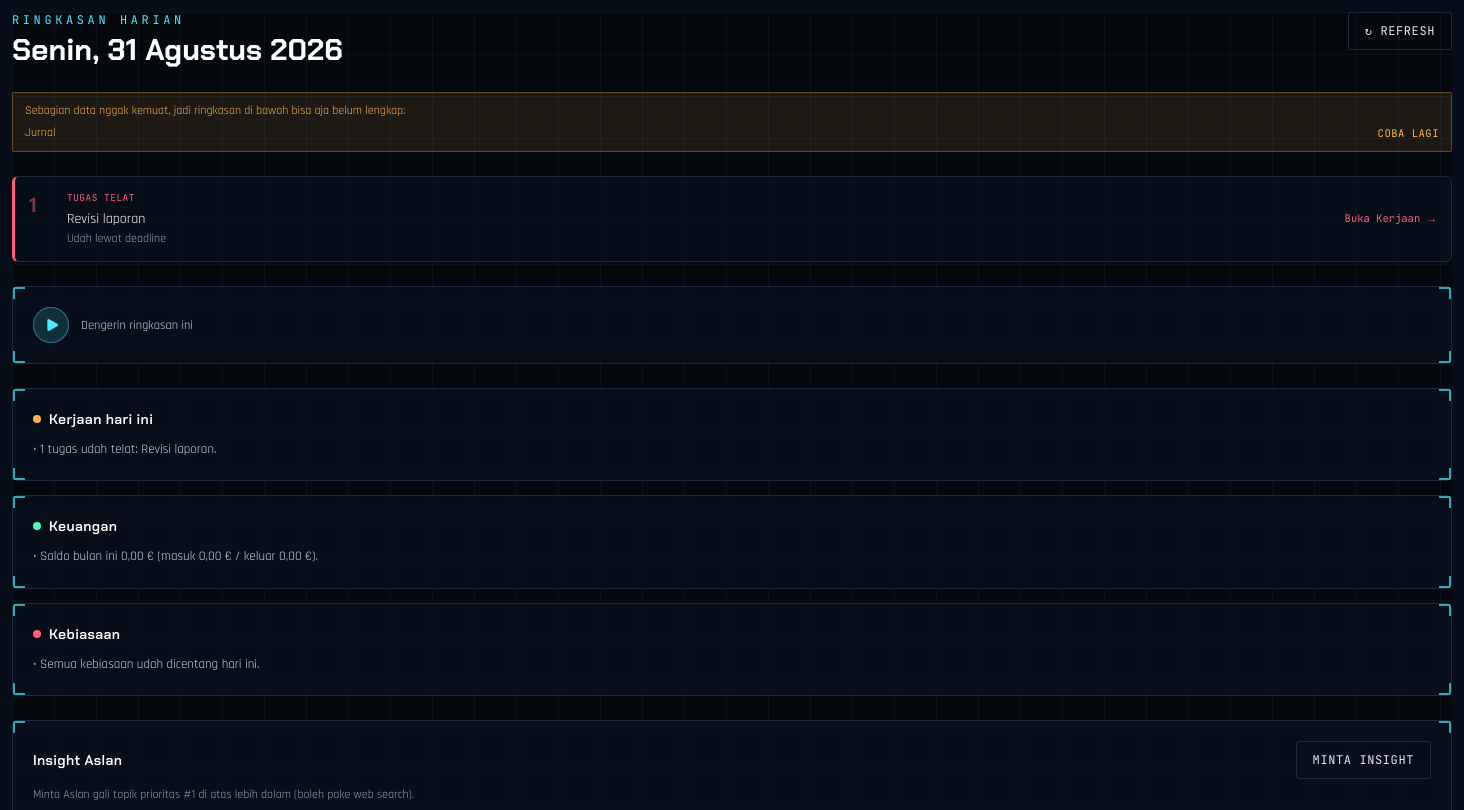
Test case: RingkasanPage › still shows the briefing when one data source fails, and can retry just that part
Expected: the text "Revisi laporan" is shown, [67,210,145,228]
Expected: the text "Sebagian data nggak kemuat" is shown, [25,103,405,118]
Click the button with aria-label "Coba lagi muat Jurnal": (1408, 133) [1378,125,1439,141]
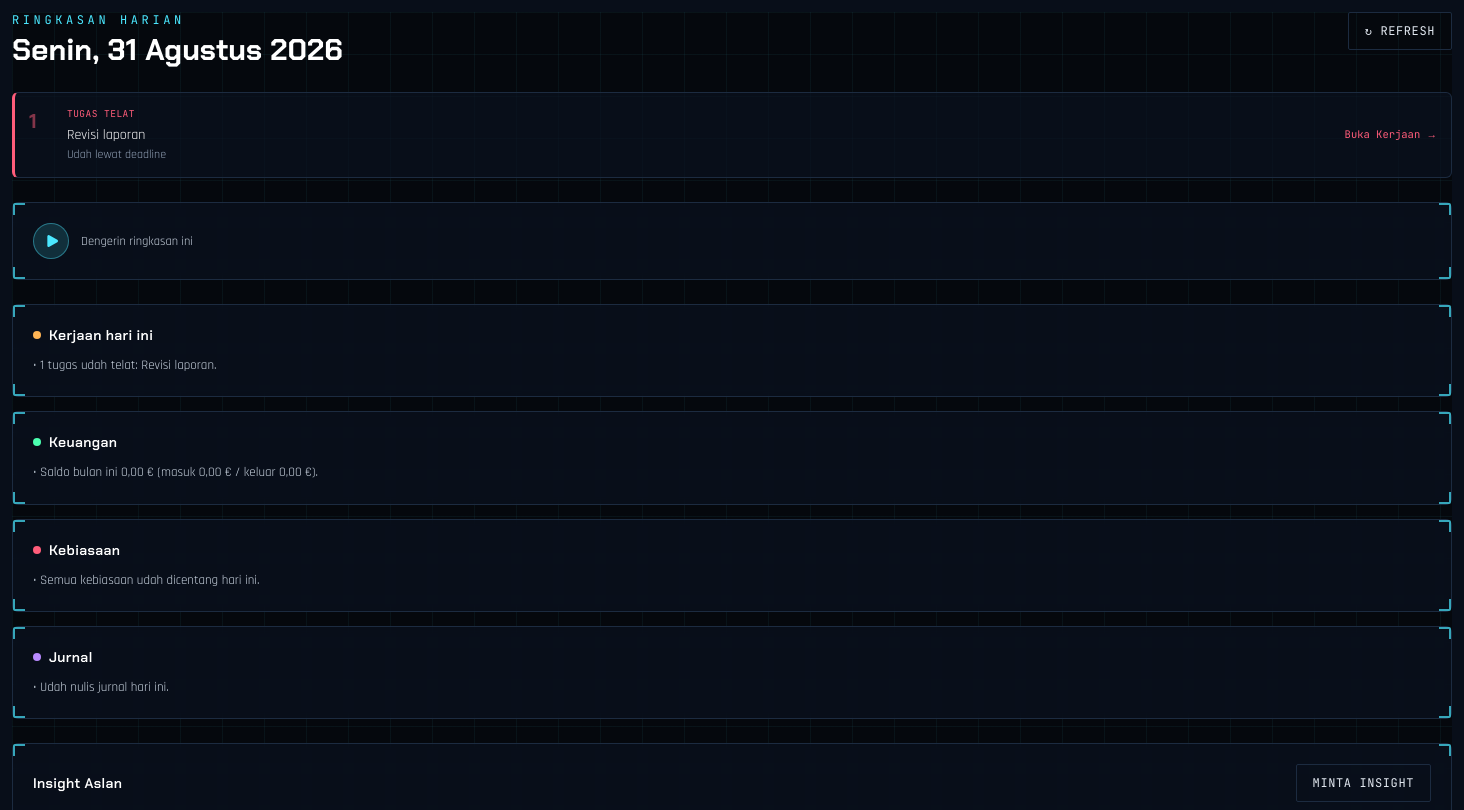
Expected: the list item "• Udah nulis jurnal hari ini." is shown, [33,679,169,695]
Expected: the text "Sebagian data nggak kemuat" is gone
